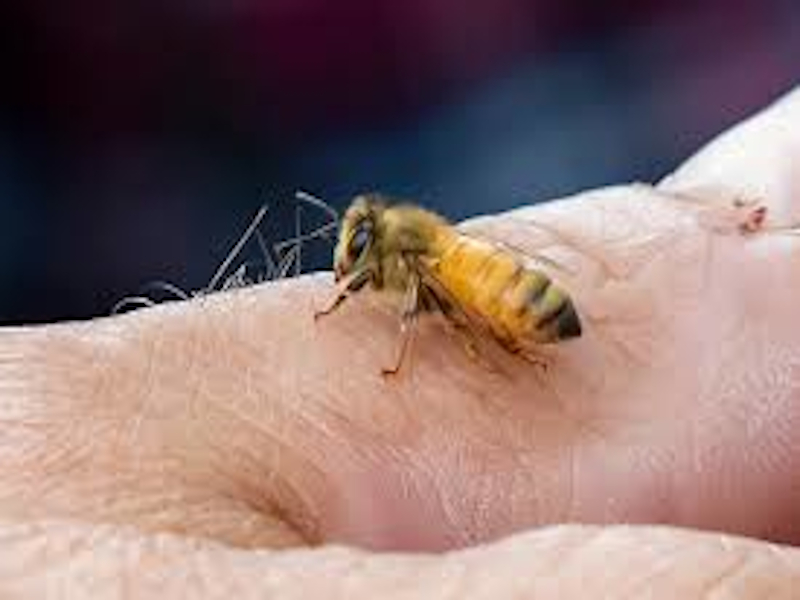abeja: (297, 179, 602, 429)
